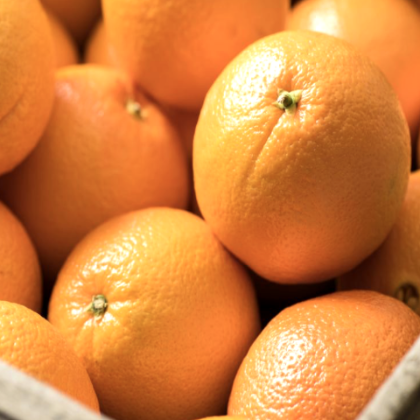orange: (180, 8, 418, 294), (33, 183, 271, 419)
